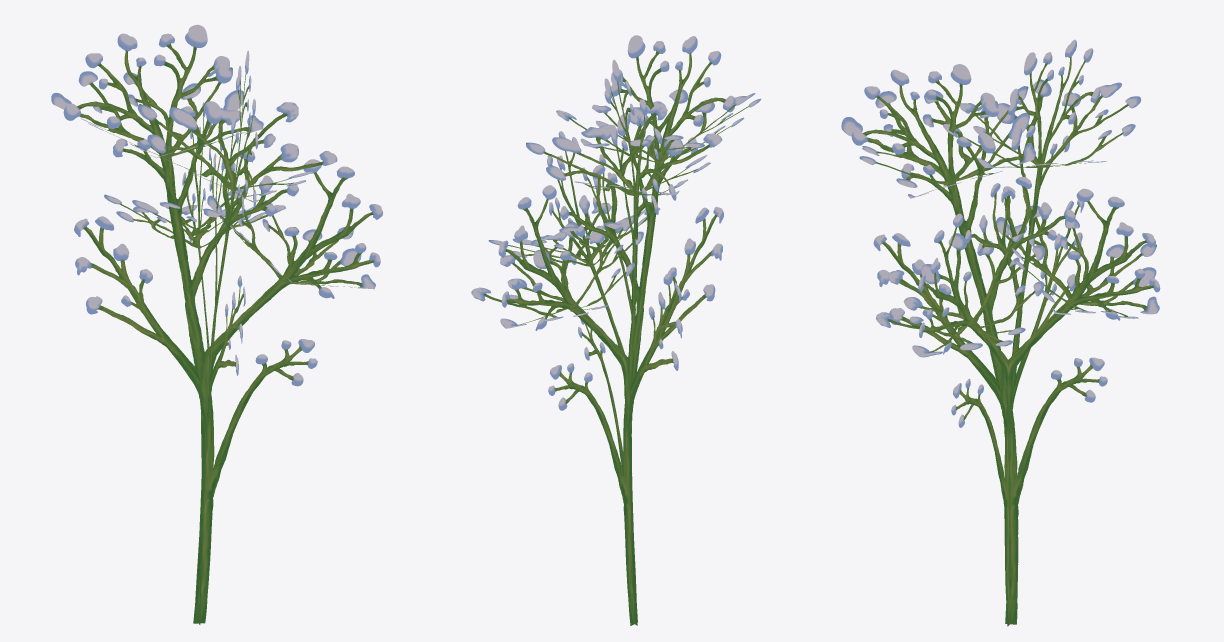
The model's file is MEADOW_SM_Flower_09_02.gltf.
The picture shows the model from 3 angles, left to right: view 1: azimuth 30°, elevation 25°; view 2: azimuth 150°, elevation 25°; view 3: azimuth 270°, elevation 25°; orthographic projection. The views are drawn at different scales.
Visible parts, largest first — view 1: SM_Flower_09_02_LOD0; view 2: SM_Flower_09_02_LOD0; view 3: SM_Flower_09_02_LOD0.
Boxes of the visible parts, x1,y1,x2,y2 form: SM_Flower_09_02_LOD0: (51,24,383,624); SM_Flower_09_02_LOD0: (471,35,761,625); SM_Flower_09_02_LOD0: (841,39,1160,626).
Size of the model in its own units: 0.4867 by 0.9481 by 0.5981.
1 material, 1 textured.
